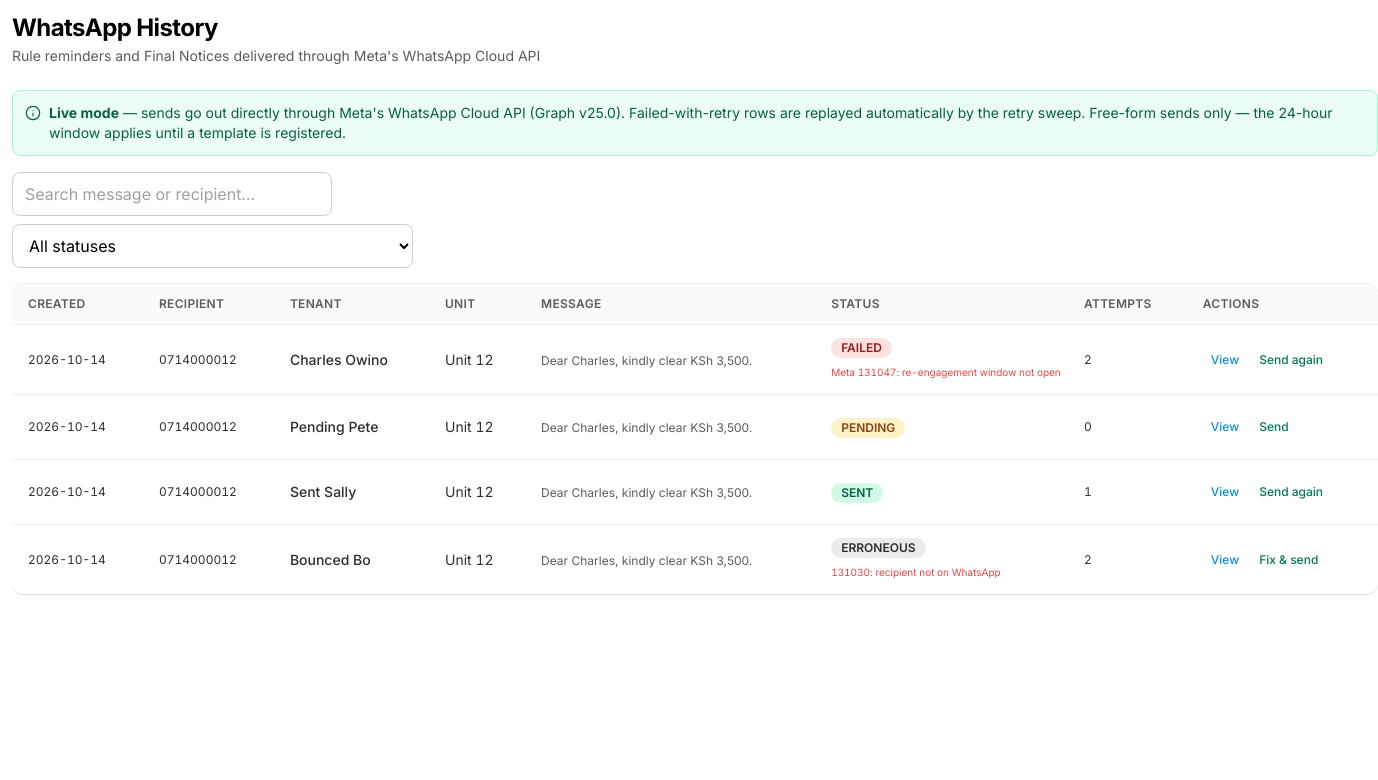
Test case: WhatsAppHistory (every delivery has a manual send) › re-sends a SENT row through the history send endpoint when the operator presses its button
Expected: the text "Sent Sally" is shown, [274,460,429,524]
Click the button "Send again" in the row of "Sent Sally" at coordinates (1291, 492), box [1251,472,1331,512]
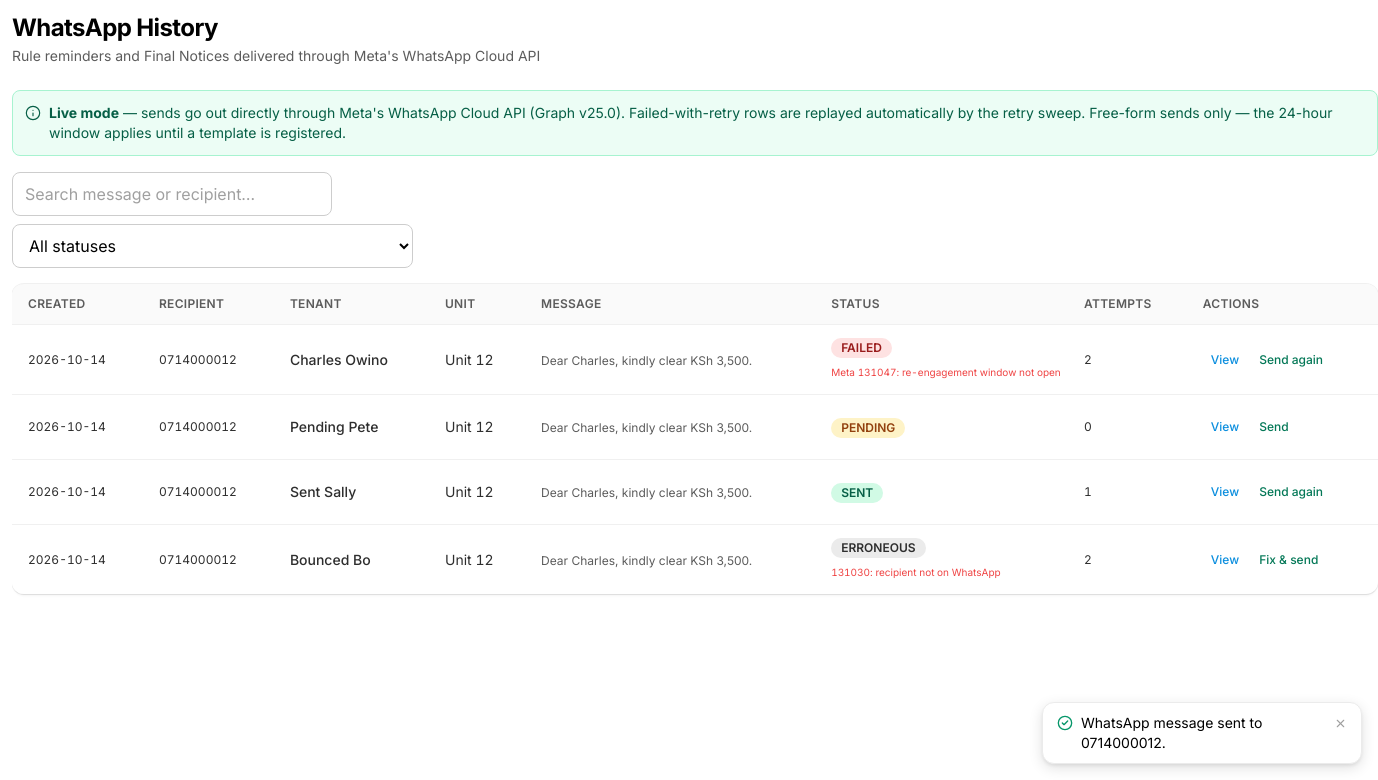
Now the text "WhatsApp message sent to 0714000012." is shown, box [1081,714,1262,751]
